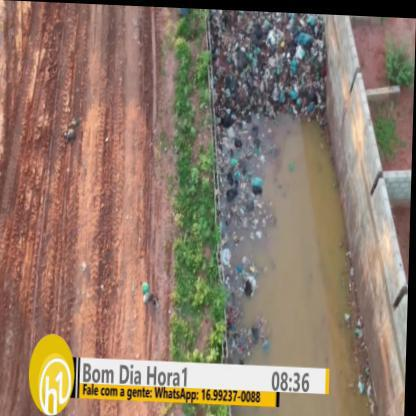agua: (259, 124, 328, 362)
lixo: (220, 10, 323, 117)
